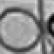no answer: (1, 6, 40, 52)
